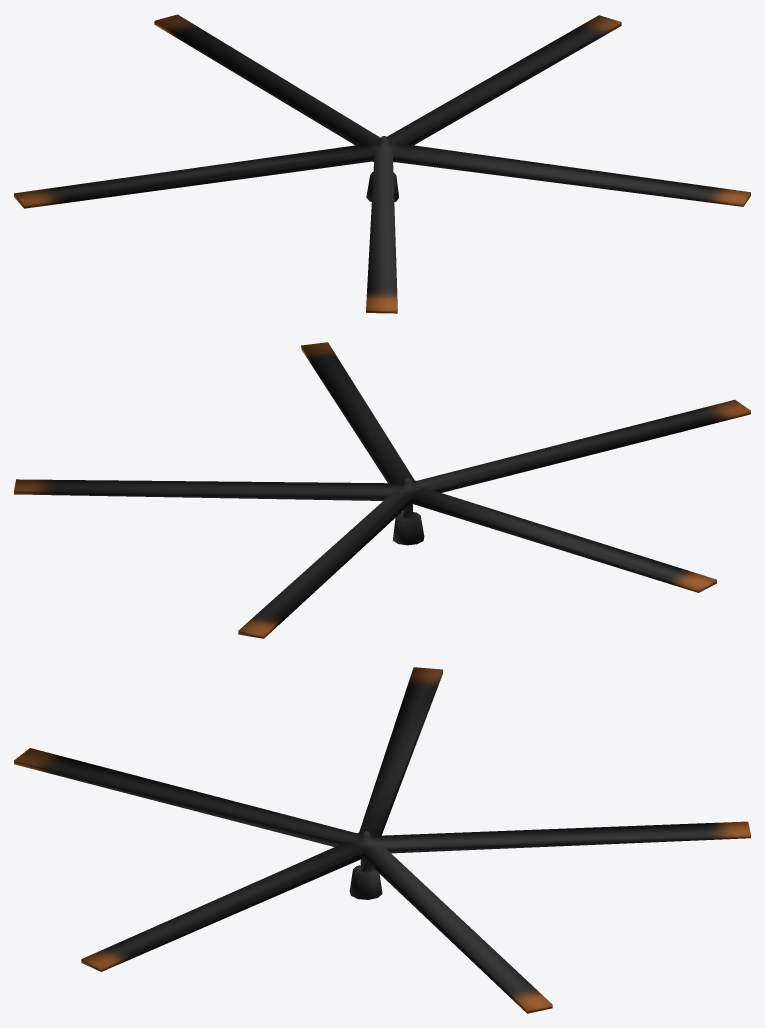
Rendered from elicopter_elice_mare.obj.
The picture shows the model from 3 angles, top to bottom: view 1: azimuth 30°, elevation 25°; view 2: azimuth 150°, elevation 25°; view 3: azimuth 270°, elevation 25°; orthographic projection. The views are drawn at different scales.
Parts seen in each view (by area): view 1: Cylinder.001; view 2: Cylinder.001; view 3: Cylinder.001.
Boxes of the visible parts, left/top/right/bottom form: Cylinder.001: left=14, top=14, right=750, bottom=313; Cylinder.001: left=14, top=342, right=750, bottom=638; Cylinder.001: left=14, top=667, right=750, bottom=1013.
Size of the model in its own units: 6 by 0.532 by 5.75.
Materials: 1 (1 with a texture image).
